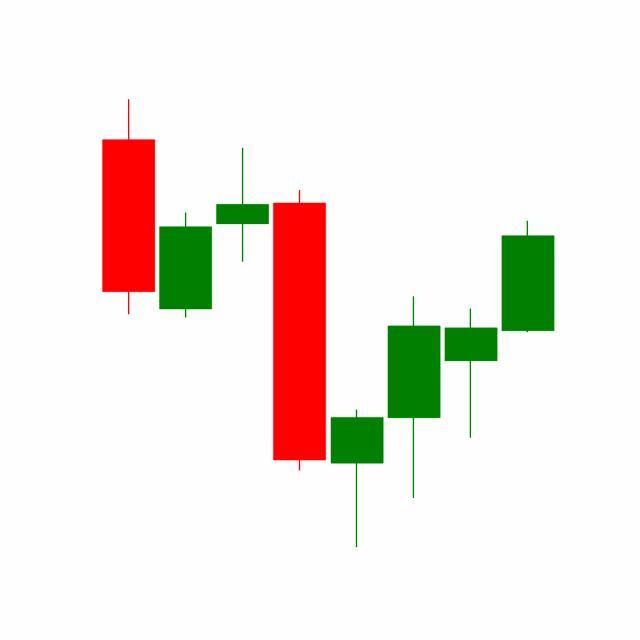Hikkake Pattern: (270, 186, 555, 549)
